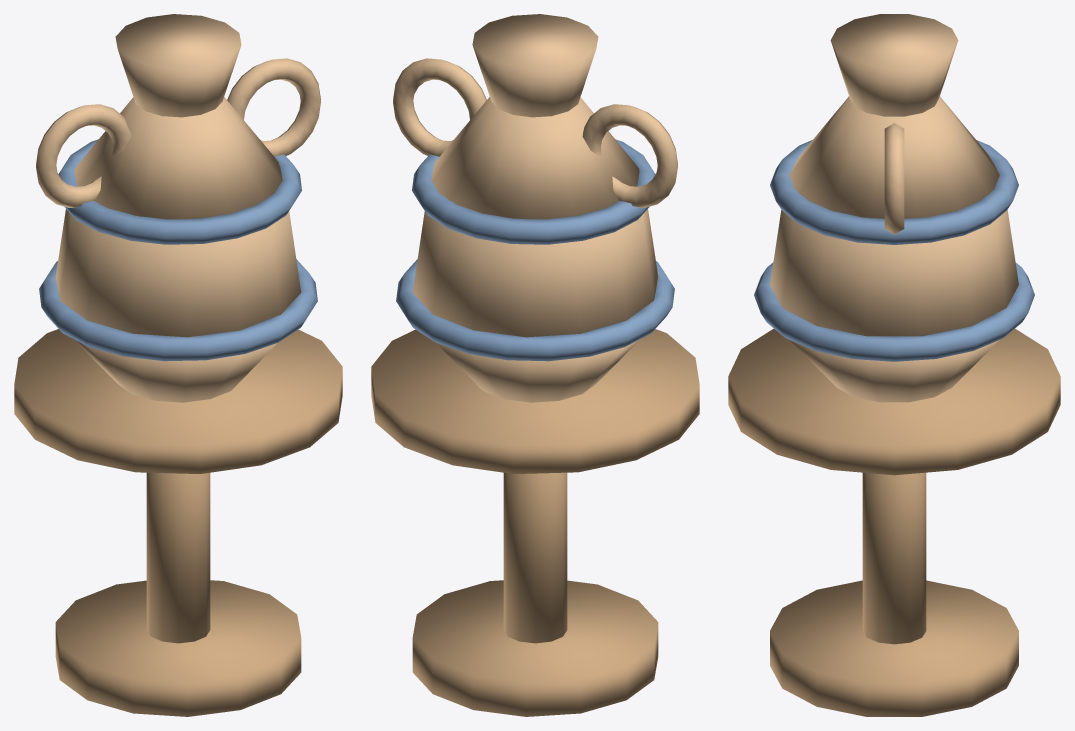
Rendered from home_sv_vase_v01.glb.
3 renders of one model, left to right at view 1: azimuth 30°, elevation 25°; view 2: azimuth 150°, elevation 25°; view 3: azimuth 270°, elevation 25°, orthographic.
Parts seen in each view (by area): view 1: home_sv_vase_v01; view 2: home_sv_vase_v01; view 3: home_sv_vase_v01.
Boxes of the visible parts, x1,y1,x2,y2 form: home_sv_vase_v01: (14,14,342,716); home_sv_vase_v01: (371,14,699,716); home_sv_vase_v01: (728,14,1060,716).
Size of the model in its own units: 0.52 by 1.08 by 0.52.
